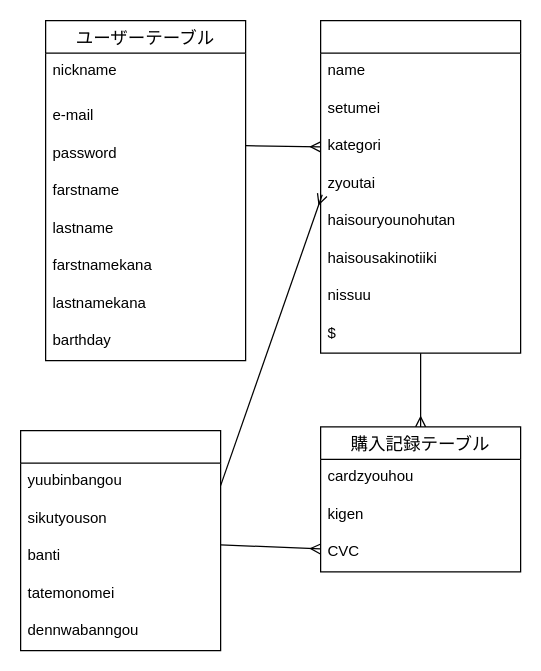
This 541x671 diagram has some shape labels left out. Each missing label, with the box of its shape:
商品テーブル: (319, 19, 521, 353)
配送先テーブル: (19, 429, 221, 651)
